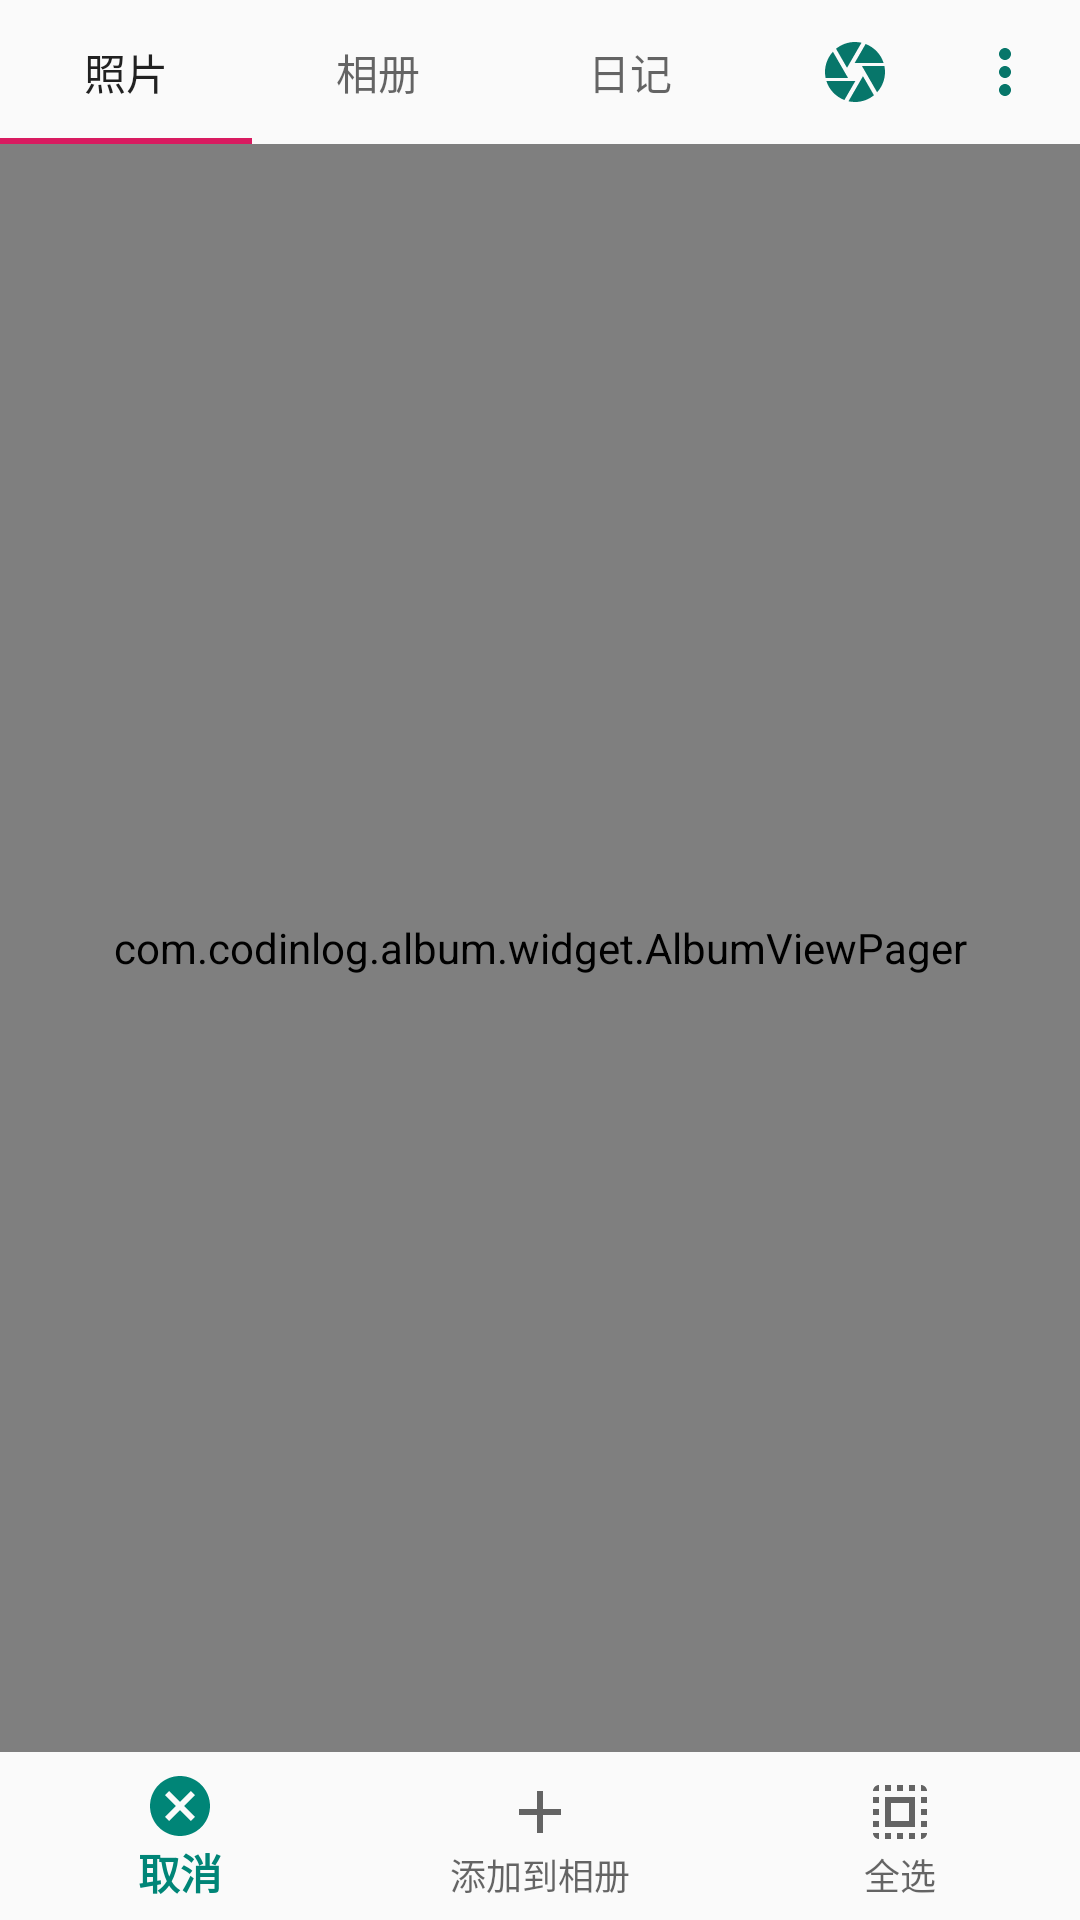

Named icons in this screenshot (1080*1920) and their bounding boxes, {"left": x1, "top": y1, "right": x2, "bottom": y2}:
更多: {"left": 999, "top": 48, "right": 1011, "bottom": 96}
